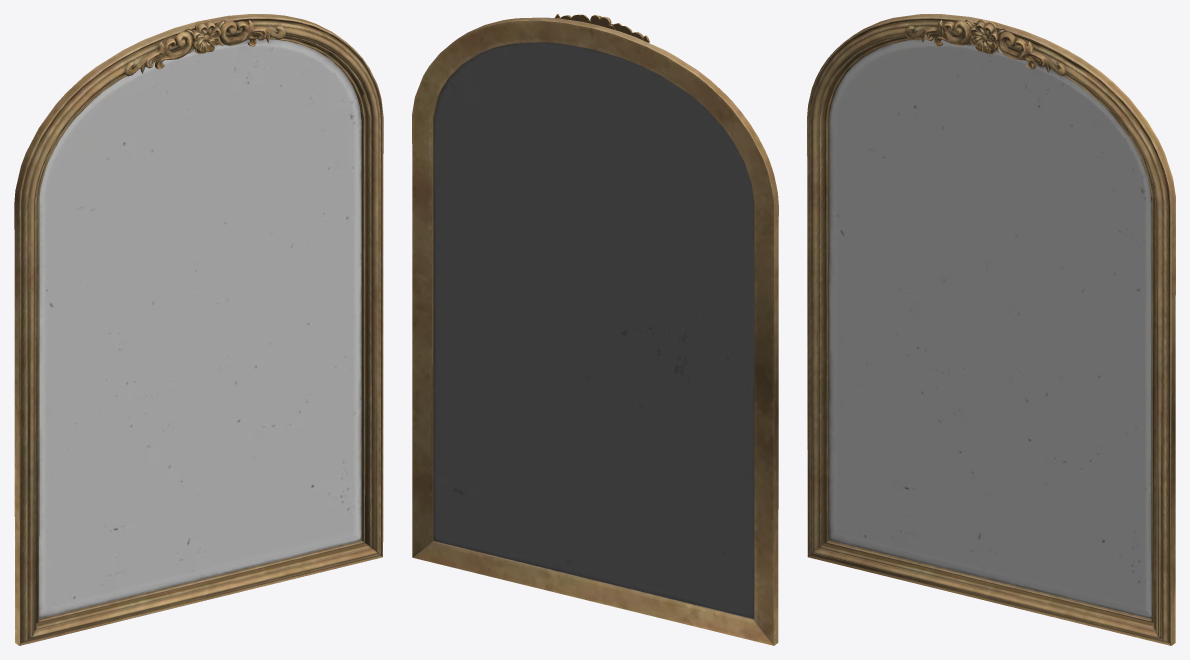
File: mirror.glb
3 views of the same model, side by side, from view 1: azimuth 30°, elevation 25°; view 2: azimuth 150°, elevation 25°; view 3: azimuth 330°, elevation 25° (orthographic).
Parts seen in each view (by area): view 1: ornate_mirror_01; view 2: ornate_mirror_01; view 3: ornate_mirror_01.
Boxes of the visible parts, <box> form: ornate_mirror_01: <box>14,14,383,645</box>; ornate_mirror_01: <box>412,14,778,645</box>; ornate_mirror_01: <box>807,14,1175,645</box>.
Size of the model in its own units: 0.4865 by 0.7437 by 0.026.
1 material, 1 textured.
